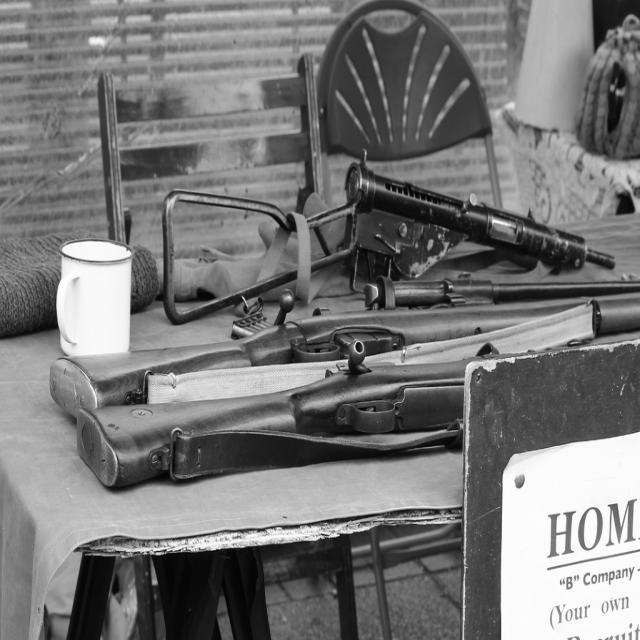weapon: (76, 338, 640, 497), (48, 277, 640, 417), (162, 147, 611, 326)
